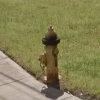Hydrant: (33, 19, 65, 93)
